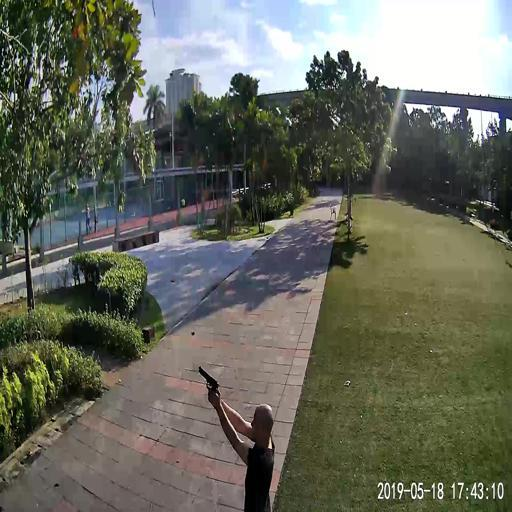Handgun: (195, 362, 218, 394)
